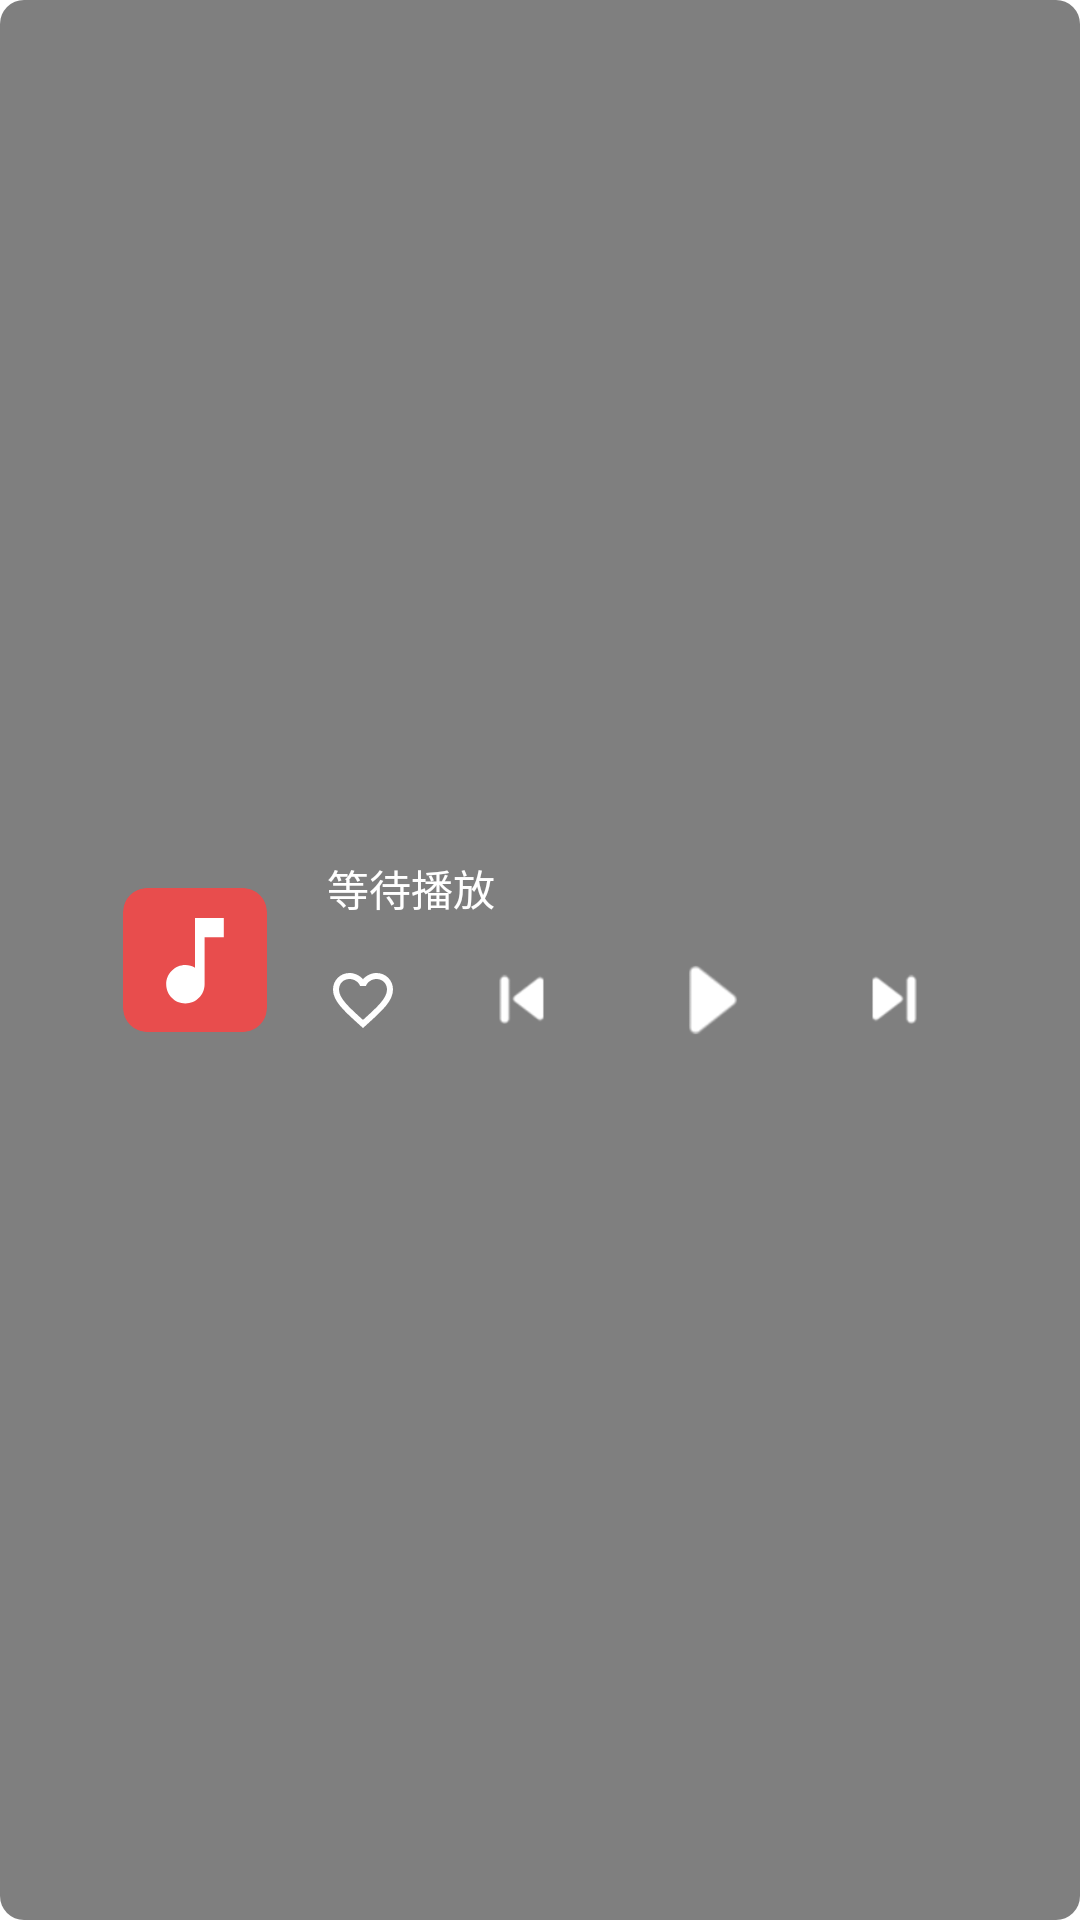

Named icons in this screenshot (1080 x 1920) and their centers, (x=x, y=y):
music favorite: (x=363, y=1000)
